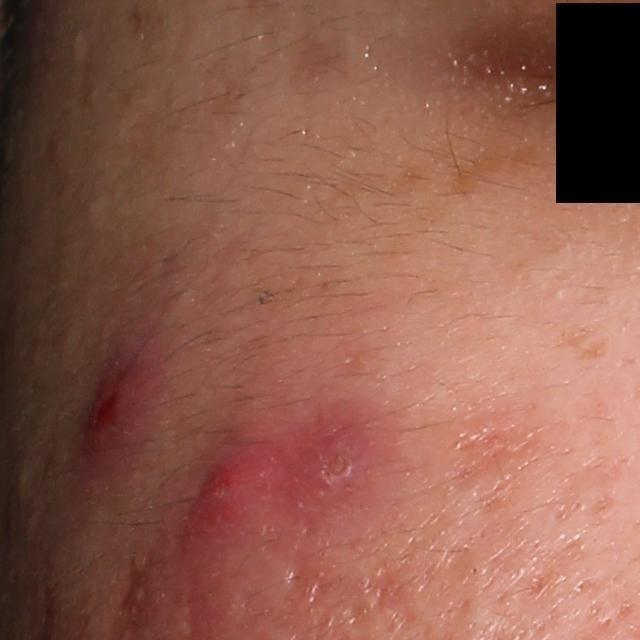melasma: (443, 141, 537, 200), (384, 157, 438, 200), (555, 323, 608, 363)
papule: (173, 441, 293, 556), (78, 338, 169, 488), (282, 409, 390, 531)
